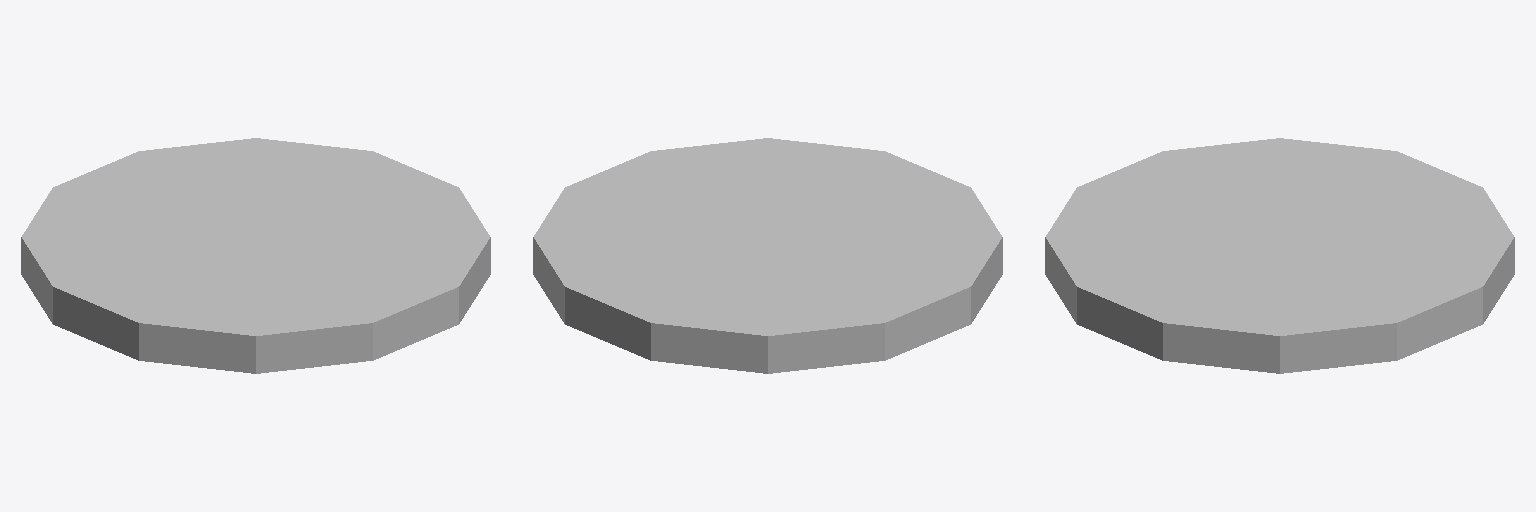
The model's file is Penny.obj.
3 renders of one model, left to right at view 1: azimuth 30°, elevation 25°; view 2: azimuth 150°, elevation 25°; view 3: azimuth 270°, elevation 25°, orthographic.
Visible parts, largest first — view 1: Penny; view 2: Penny; view 3: Penny.
Part boxes in pixels (x1,y1,x2,y2): Penny: (21,138,490,373); Penny: (533,138,1002,373); Penny: (1045,138,1514,373).
Size of the model in its own units: 0.9998 by 0.0888 by 0.9998.